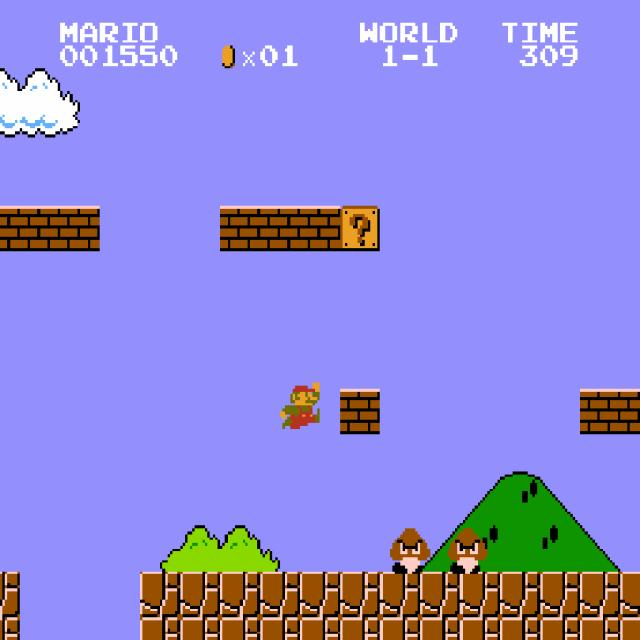brick_block: (20, 206, 60, 251), (60, 206, 100, 251), (220, 206, 260, 251), (260, 206, 300, 251), (300, 206, 340, 251), (340, 389, 380, 434), (580, 389, 620, 434), (0, 206, 20, 251), (620, 389, 640, 434)
goomba: (387, 526, 430, 574), (445, 526, 488, 574)
little_mario: (277, 380, 320, 429)
mystery_block: (340, 206, 380, 251)
undestructible_block: (140, 572, 180, 617), (180, 572, 220, 617), (220, 572, 260, 617), (260, 572, 300, 617), (300, 572, 340, 617), (340, 572, 380, 617), (380, 572, 420, 617), (420, 572, 460, 617), (460, 572, 500, 617), (500, 572, 540, 617), (540, 572, 580, 617), (580, 572, 620, 617), (140, 617, 180, 640), (180, 617, 220, 640), (220, 617, 260, 640), (260, 617, 300, 640), (300, 617, 340, 640), (340, 617, 380, 640), (380, 617, 420, 640), (420, 617, 460, 640), (460, 617, 500, 640), (500, 617, 540, 640), (540, 617, 580, 640), (580, 617, 620, 640), (0, 572, 20, 617), (620, 572, 640, 617), (0, 617, 20, 640), (620, 617, 640, 640)
